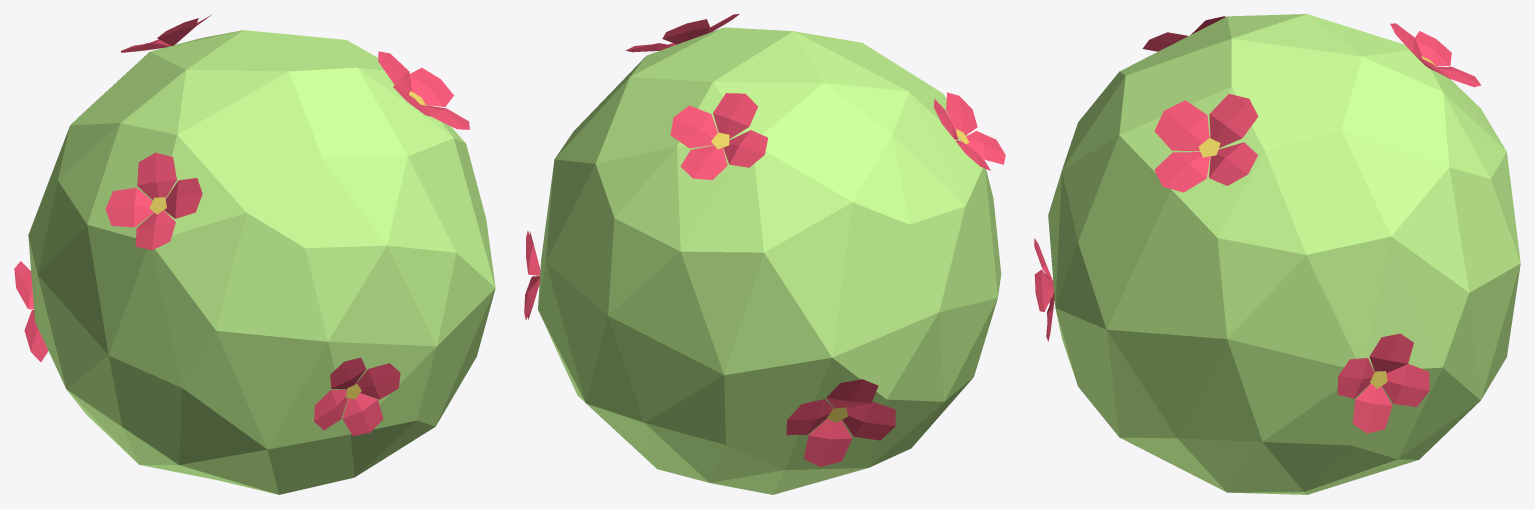
The model's file is FlowerBush_f_m_01.fbx.
3 views of the same model, side by side, from view 1: azimuth 30°, elevation 25°; view 2: azimuth 150°, elevation 25°; view 3: azimuth 270°, elevation 25° (orthographic). The views are drawn at different scales.
Parts seen in each view (by area): view 1: FlowerBush_f_m_01; view 2: FlowerBush_f_m_01; view 3: FlowerBush_f_m_01.
Part boxes in pixels (left/top/right/bottom): FlowerBush_f_m_01: left=14, top=15, right=495, bottom=494; FlowerBush_f_m_01: left=524, top=14, right=1005, bottom=494; FlowerBush_f_m_01: left=1034, top=14, right=1520, bottom=494.
Size of the model in its own units: 142 by 138 by 140.
